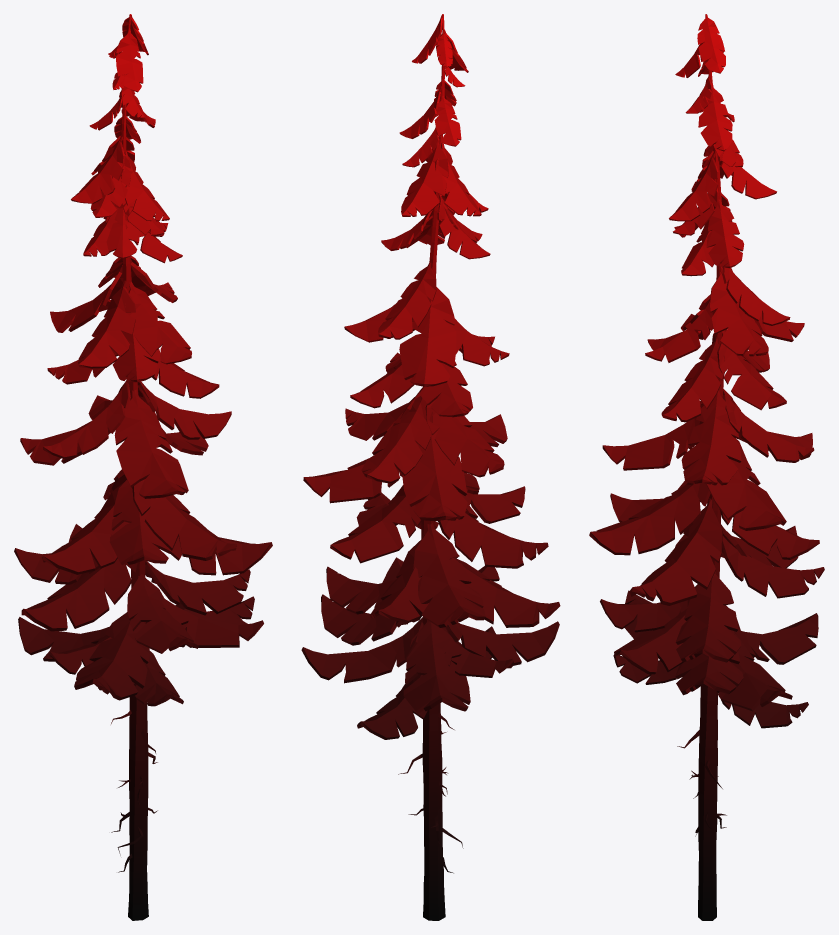
Rendered from TreeSpruceTall08.fbx.
3 views of the same model, side by side, from view 1: azimuth 30°, elevation 25°; view 2: azimuth 150°, elevation 25°; view 3: azimuth 270°, elevation 25° (orthographic).
Parts seen in each view (by area): view 1: TreeSpruceTall08_LOD0; view 2: TreeSpruceTall08_LOD0; view 3: TreeSpruceTall08_LOD0.
Boxes of the visible parts, x1=… form: TreeSpruceTall08_LOD0: x1=14, y1=14, x2=272, y2=920; TreeSpruceTall08_LOD0: x1=301, y1=14, x2=560, y2=920; TreeSpruceTall08_LOD0: x1=589, y1=14, x2=824, y2=920.
Size of what is drawn, in the model's own units: 501 by 1834 by 436.
